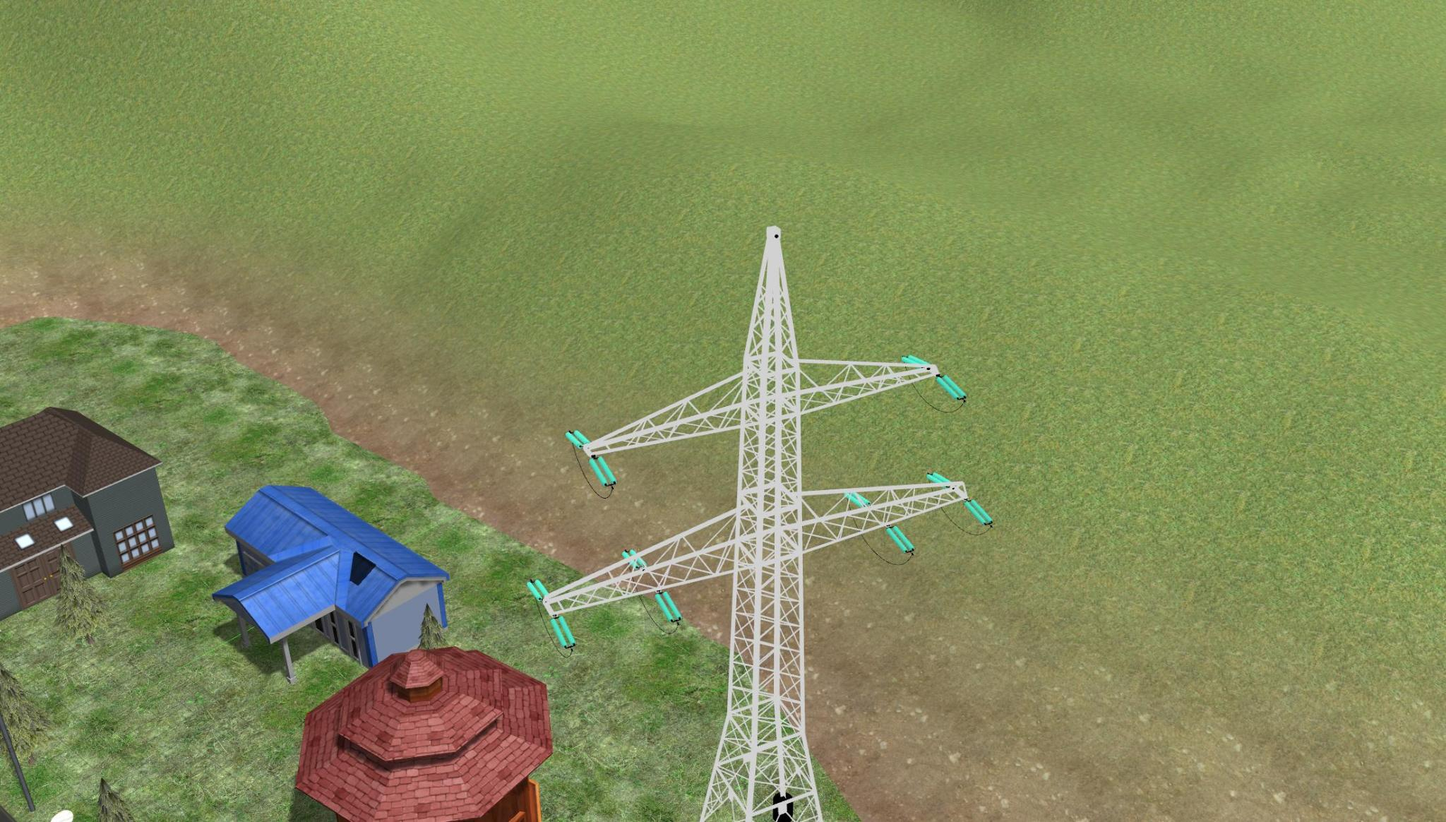tower: (542, 227, 965, 822)
